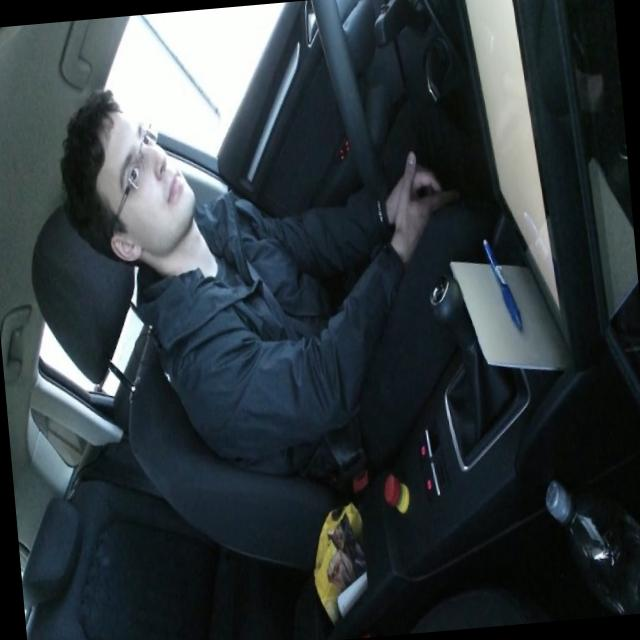pen: (481, 233, 523, 333)
